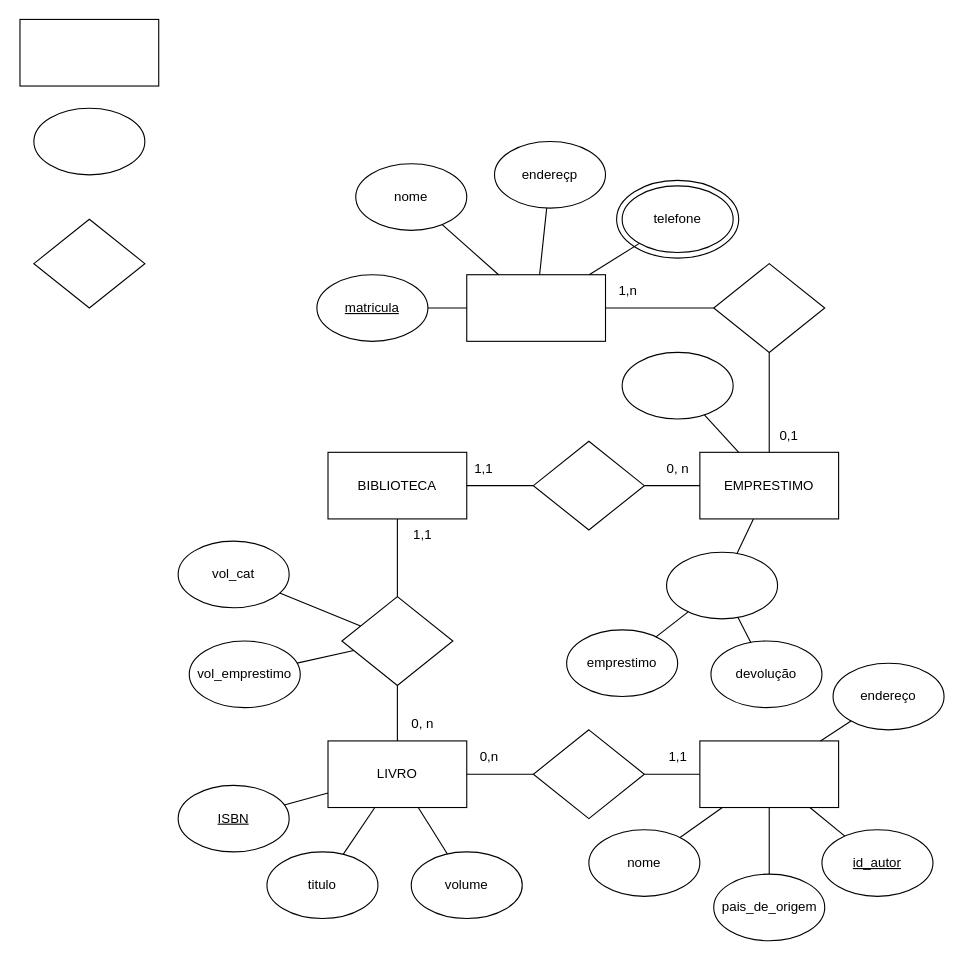
The diagram is 963 pixels wide and 960 high, and some of its shapes have lost their labels. Here are the shapes that lost their labels. From the top down, the box of each, then its label:
(466, 274, 606, 341): USUARIO
(713, 263, 825, 352): solicita
(621, 351, 733, 419): id_emprestimo
(532, 440, 644, 530): é_feito
(665, 551, 778, 619): data
(341, 596, 453, 685): possui
(532, 729, 644, 819): é_escrito
(699, 740, 839, 808): AUTOR
